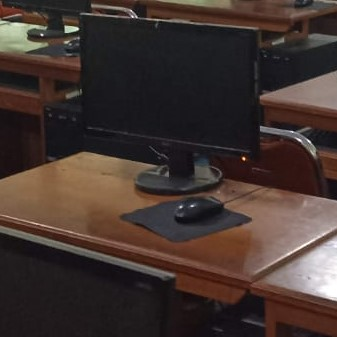monitor: (77, 13, 262, 168), (2, 0, 92, 39)
